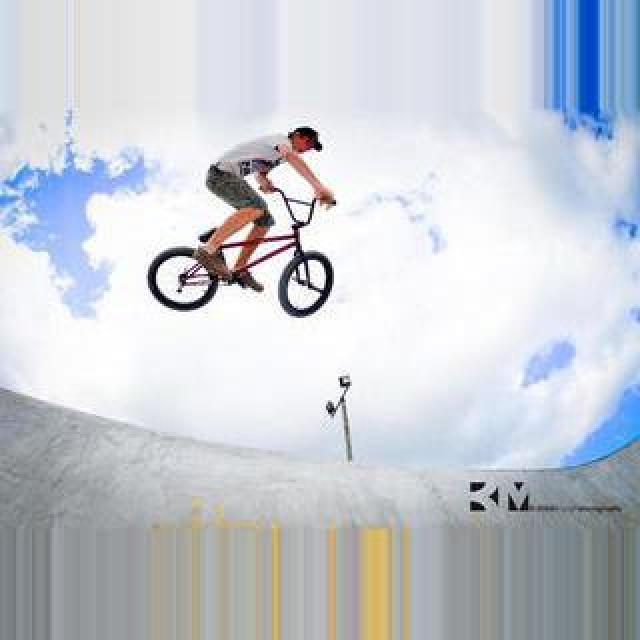MC-Bike: (198, 120, 338, 292)
Person: (148, 194, 336, 318)
